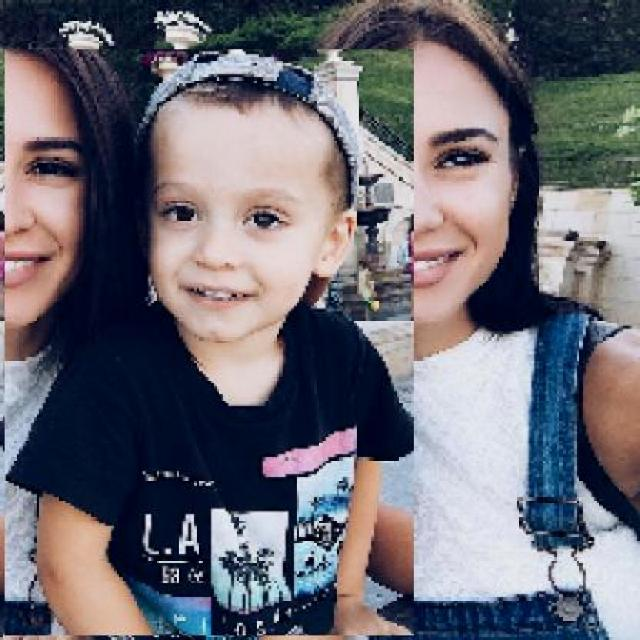child: (3, 49, 414, 637)
